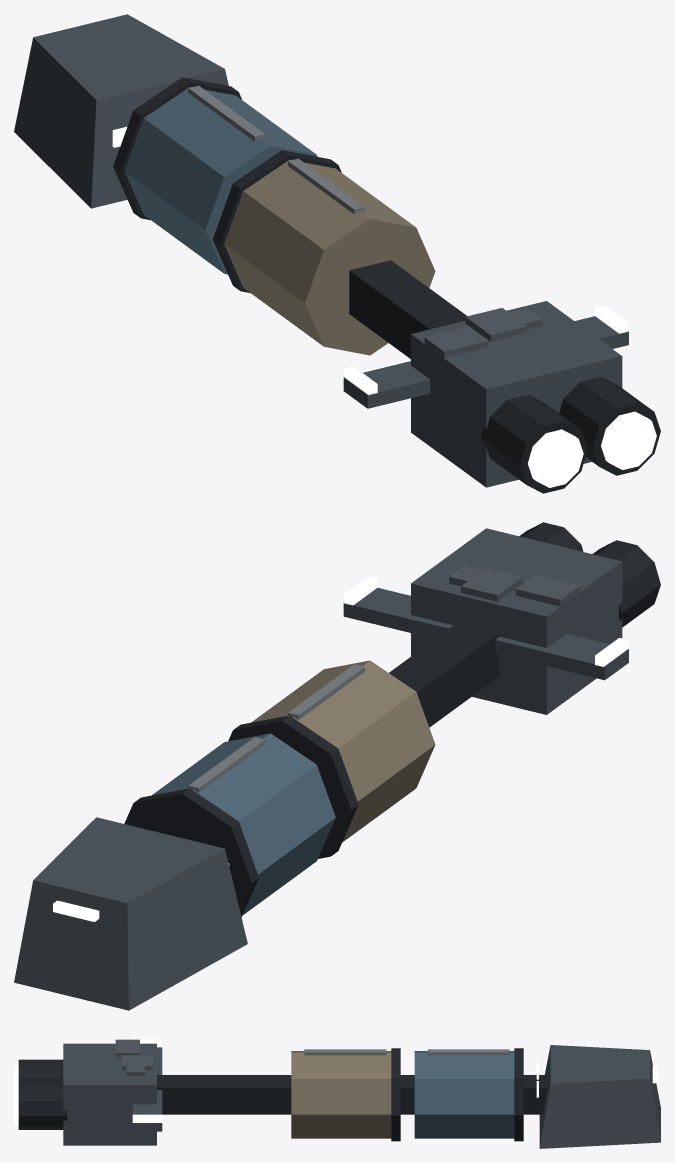
File: od_hauler_b.glb
3 renders of one model, top to bottom at view 1: azimuth 30°, elevation 25°; view 2: azimuth 150°, elevation 25°; view 3: azimuth 270°, elevation 25°, orthographic. The views are drawn at different scales.
Visible parts, largest first — view 1: od_hauler_b_body, od_hauler_b_lit_emit; view 2: od_hauler_b_body, od_hauler_b_lit_emit; view 3: od_hauler_b_body, od_hauler_b_lit_emit.
Part boxes in pixels (box(x1,y1,x2,y2)): od_hauler_b_body: box(14, 14, 660, 493); od_hauler_b_lit_emit: box(112, 126, 656, 487); od_hauler_b_body: box(14, 522, 660, 1010); od_hauler_b_lit_emit: box(53, 576, 628, 921); od_hauler_b_body: box(18, 1039, 660, 1148); od_hauler_b_lit_emit: box(14, 1039, 658, 1124).
Bounding box in the file's own units: 10 × 5.3 × 34.65.
